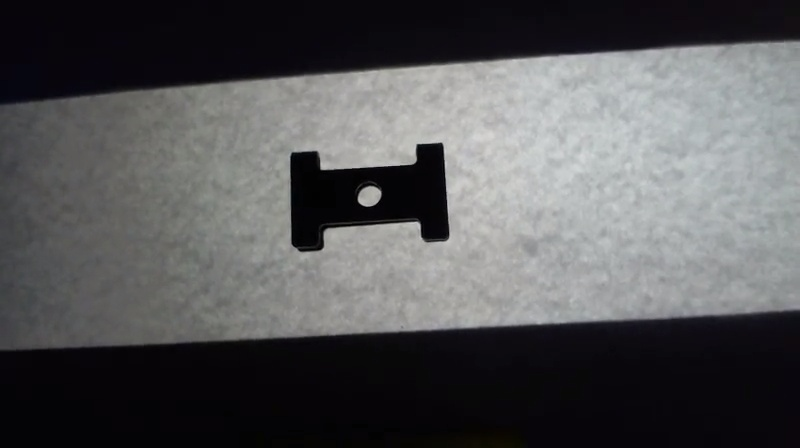O002: (283, 139, 452, 258)
